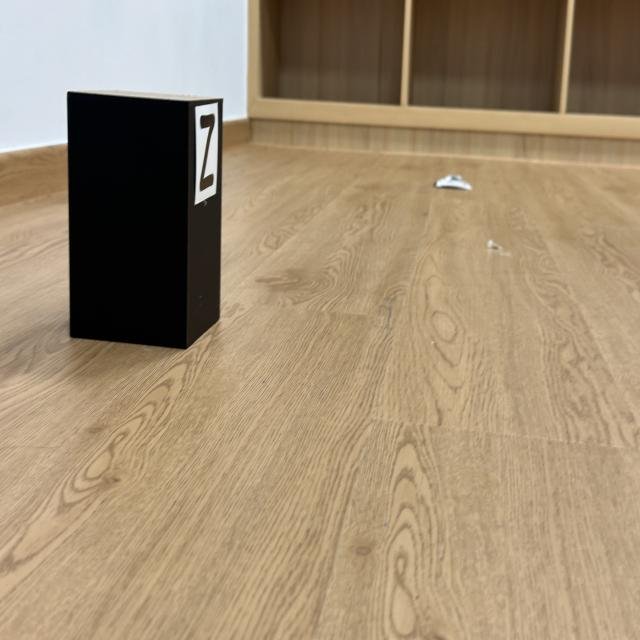Z: (200, 113, 215, 192)
